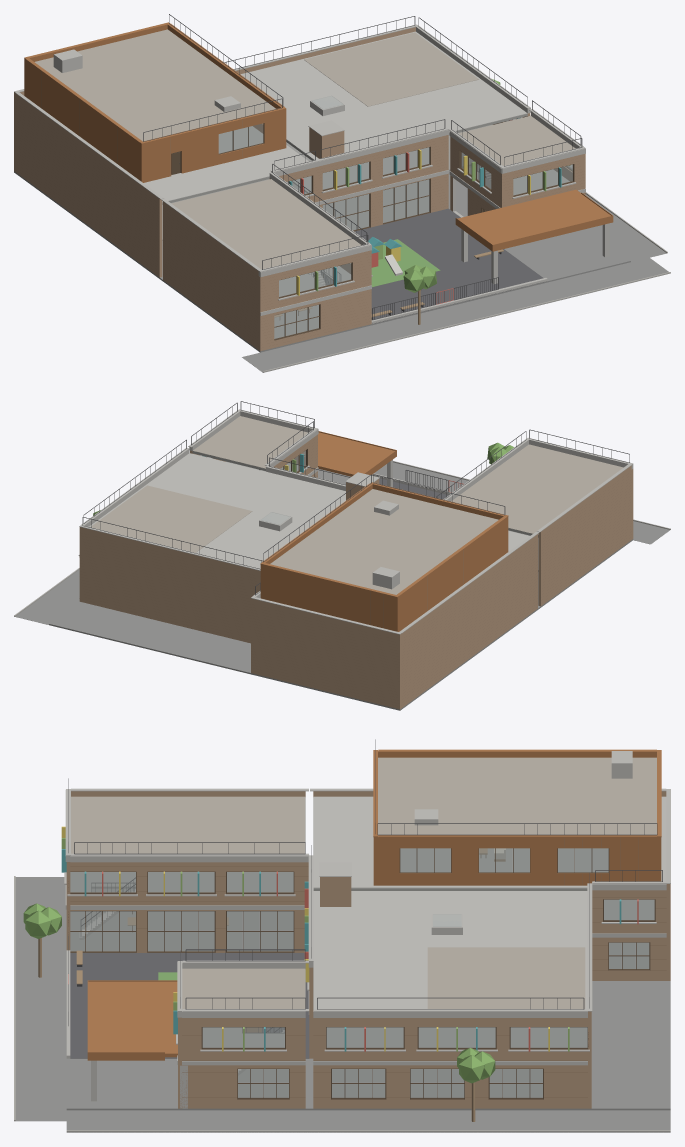
Rendered from clay-courtyard-primary-school-clay-v002.glb.
The picture shows the model from 3 angles, top to bottom: view 1: azimuth 30°, elevation 25°; view 2: azimuth 150°, elevation 25°; view 3: azimuth 270°, elevation 25°; orthographic projection. The views are drawn at different scales.
Visible parts, largest first — view 1: CLAY_WALL, CLAY_ROOF, CLAY_FOUNDATION, CLAY_CORTEN, CLAY_MEMBRANE, CLAY_PALE, CLAY_GLASS, CLAY_COURT, CLAY_FLOOR, CLAY_HARDWARE, CLAY_TRIM, CLAY_STONE (+4 smaller); view 2: CLAY_WALL, CLAY_ROOF, CLAY_CORTEN, CLAY_MEMBRANE, CLAY_FOUNDATION, CLAY_PALE, CLAY_HARDWARE; view 3: CLAY_FOUNDATION, CLAY_ROOF, CLAY_WALL, CLAY_GLASS, CLAY_MEMBRANE, CLAY_CORTEN, CLAY_PALE, CLAY_FLOOR, CLAY_TRIM, CLAY_COURT, CLAY_HARDWARE, CLAY_STONE (+5 smaller).
Part boxes in pixels (box(x1,y1,x2,y2)): CLAY_WALL: box(14, 27, 585, 351); CLAY_ROOF: box(35, 29, 575, 269); CLAY_FOUNDATION: box(14, 164, 668, 372); CLAY_CORTEN: box(24, 22, 613, 251); CLAY_MEMBRANE: box(143, 31, 527, 202); CLAY_PALE: box(14, 24, 609, 323); CLAY_GLASS: box(218, 95, 572, 338); CLAY_COURT: box(322, 208, 543, 323); CLAY_FLOOR: box(162, 113, 569, 296); CLAY_HARDWARE: box(143, 14, 582, 320); CLAY_TRIM: box(171, 121, 574, 340); CLAY_STONE: box(262, 192, 670, 372); CLAY_WALL: box(79, 434, 633, 709); CLAY_ROOF: box(90, 416, 623, 594); CLAY_CORTEN: box(260, 431, 508, 631); CLAY_MEMBRANE: box(89, 453, 529, 568); CLAY_FOUNDATION: box(15, 462, 669, 710); CLAY_PALE: box(78, 409, 633, 634); CLAY_HARDWARE: box(82, 401, 629, 595); CLAY_FOUNDATION: box(15, 877, 670, 1132); CLAY_ROOF: box(71, 757, 656, 1009); CLAY_WALL: box(66, 791, 670, 1108); CLAY_GLASS: box(70, 848, 654, 1097); CLAY_MEMBRANE: box(313, 796, 666, 1008); CLAY_CORTEN: box(87, 749, 661, 1060); CLAY_PALE: box(64, 751, 670, 1108); CLAY_FLOOR: box(70, 797, 654, 1047); CLAY_TRIM: box(68, 848, 655, 1099); CLAY_COURT: box(70, 953, 309, 1058); CLAY_HARDWARE: box(68, 739, 662, 1033); CLAY_STONE: box(14, 876, 670, 1132).
Size of the model in its own units: 46 by 12.98 by 50.03.
